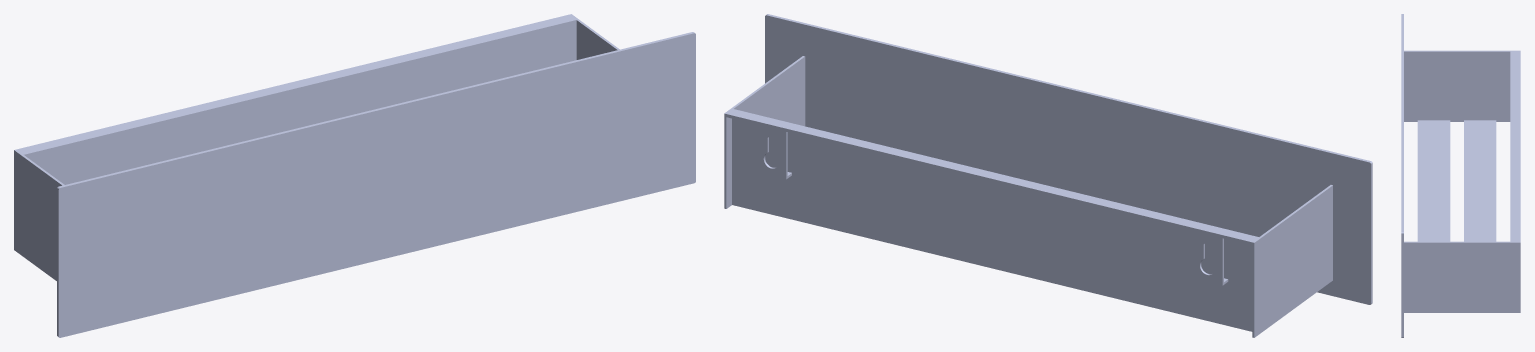
Rendered from skyline-mono.480a8054e1.glb.
The picture shows the model from 3 angles, left to right: view 1: azimuth 30°, elevation 25°; view 2: azimuth 150°, elevation 25°; view 3: azimuth 270°, elevation 25°; orthographic projection. The views are drawn at different scales.
Visible parts, largest first — view 1: NAUO1; view 2: NAUO1; view 3: NAUO1.
Boxes of the visible parts, x1,y1,x2,y2 form: NAUO1: [14, 14, 695, 337]; NAUO1: [724, 14, 1372, 337]; NAUO1: [1401, 14, 1520, 337].
Size of the model in its own units: 0.4 by 0.09 by 0.092.
